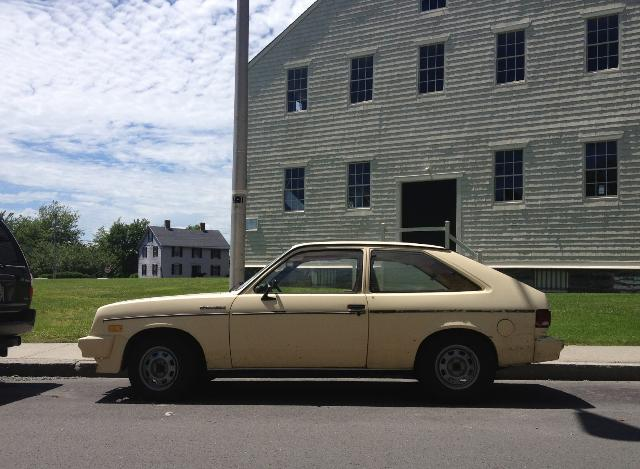chevette-1983: (78, 242, 563, 404)
